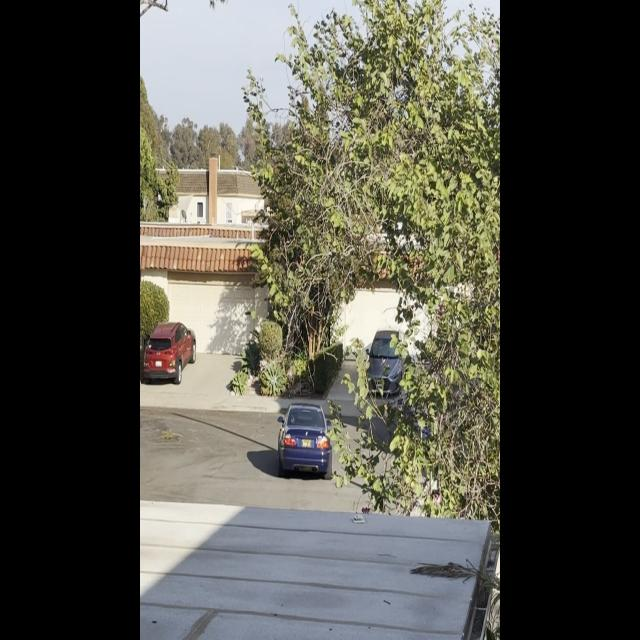Carbeetle: (270, 395, 338, 488)
Civilian: (140, 318, 199, 383), (363, 320, 409, 403)
